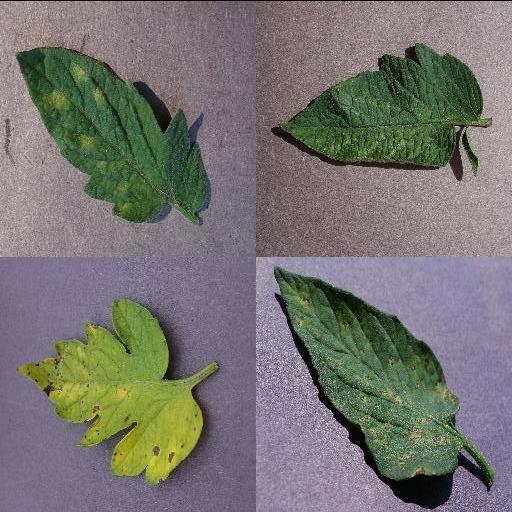Leaf Mold: (16, 45, 212, 221)
Septoria: (272, 265, 462, 479), (16, 294, 204, 484)
Spider Mites: (280, 42, 484, 168)
